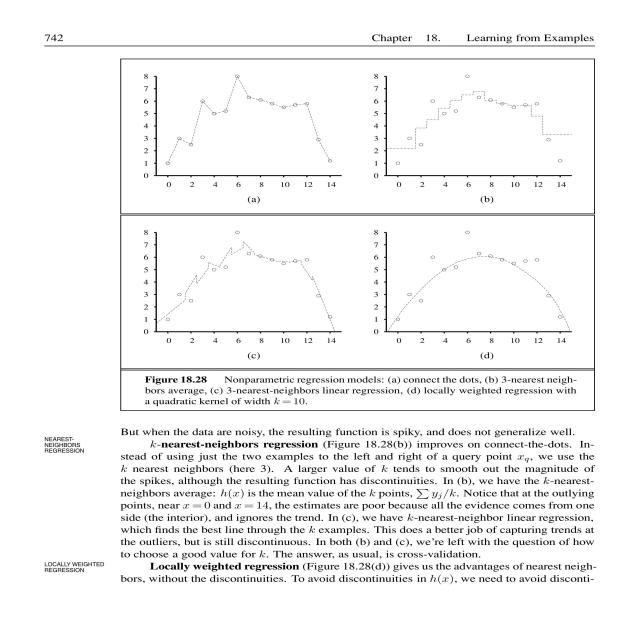diagram: (76, 54, 640, 410)
